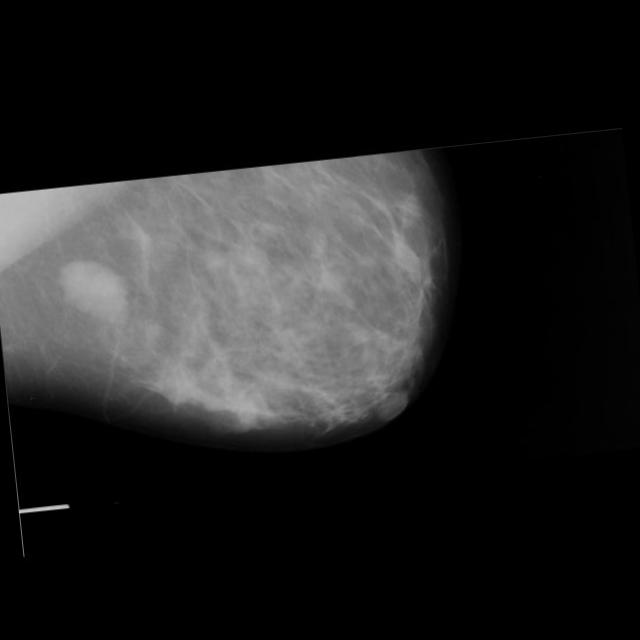CIRC: (50, 245, 143, 338)
